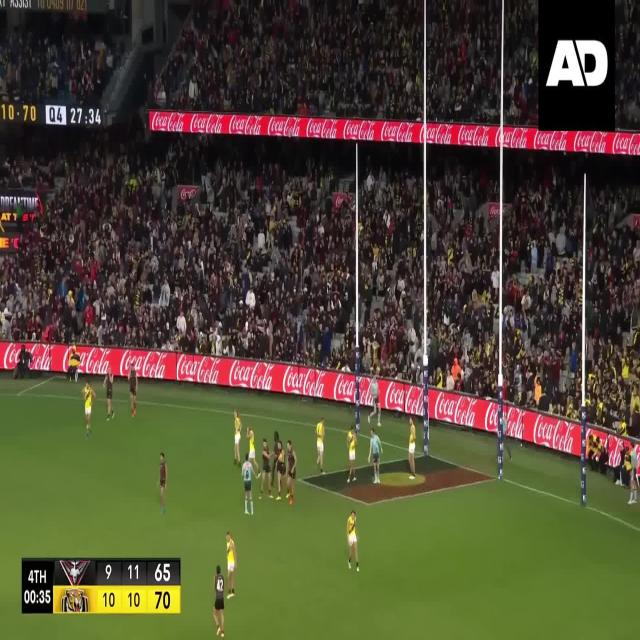crowd: (1, 131, 640, 436), (149, 3, 540, 123), (2, 28, 129, 100), (615, 1, 640, 129)
